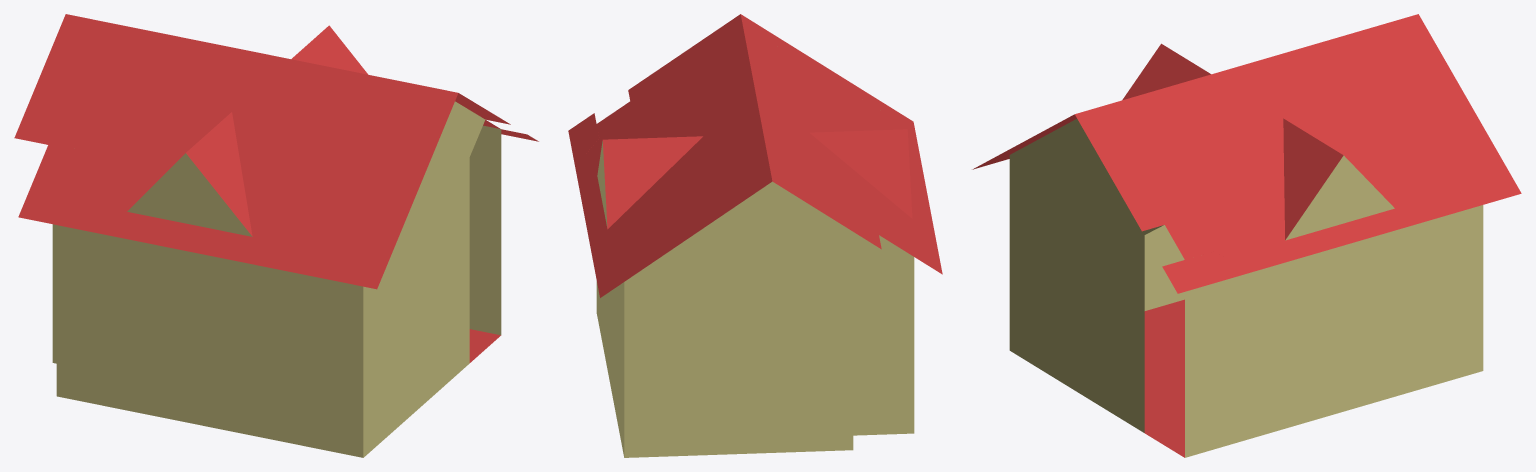
3 renders of one model, left to right at view 1: azimuth 30°, elevation 25°; view 2: azimuth 150°, elevation 25°; view 3: azimuth 270°, elevation 25°, orthographic. The views are drawn at different scales.
Bounding box in the file's own units: 18.66 × 19.9 × 11.84.
